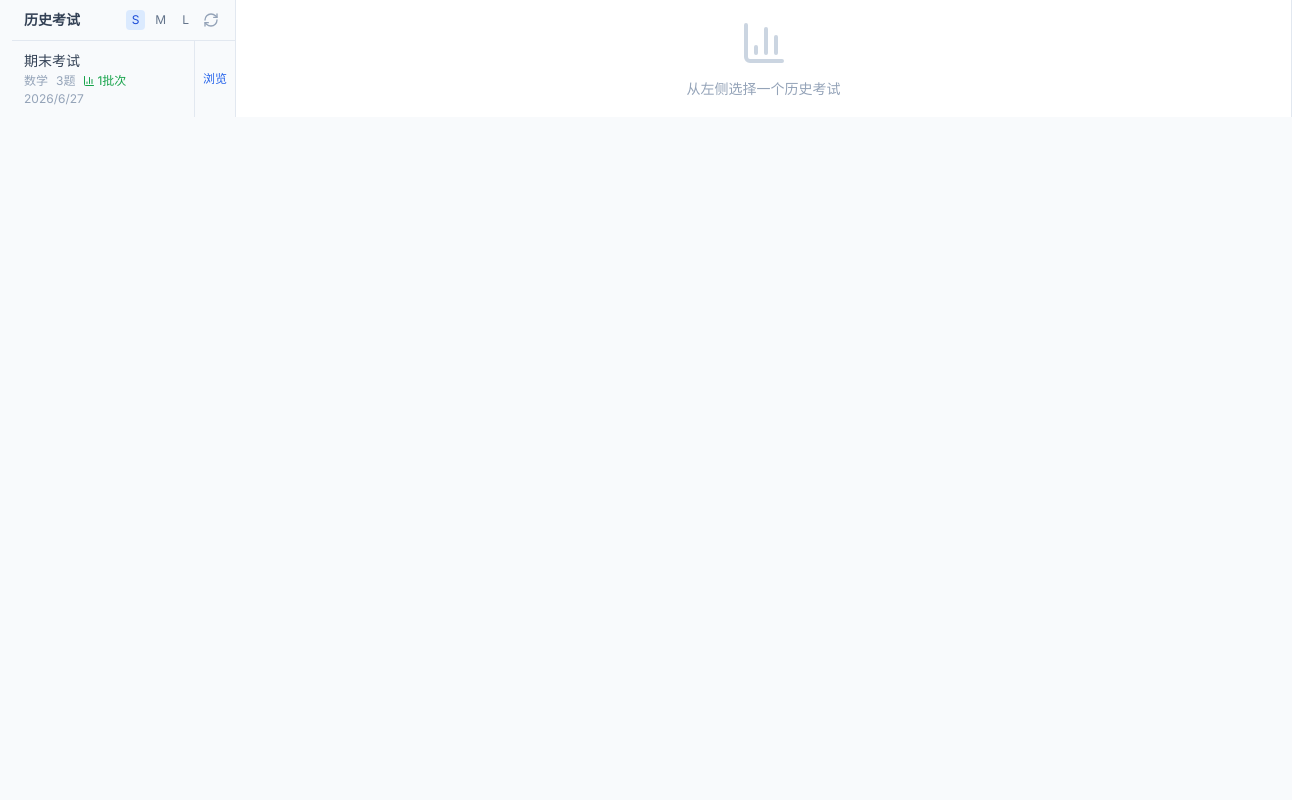
Scenario: AnalysisWorkspace › shows error message when folder script run fails
The width and height of the screenshot is (1292, 800).
Step 1. Click the button "期末考试 数学 3题 1批次 2026/6/27" → (103, 79), box [12,41,194,117]
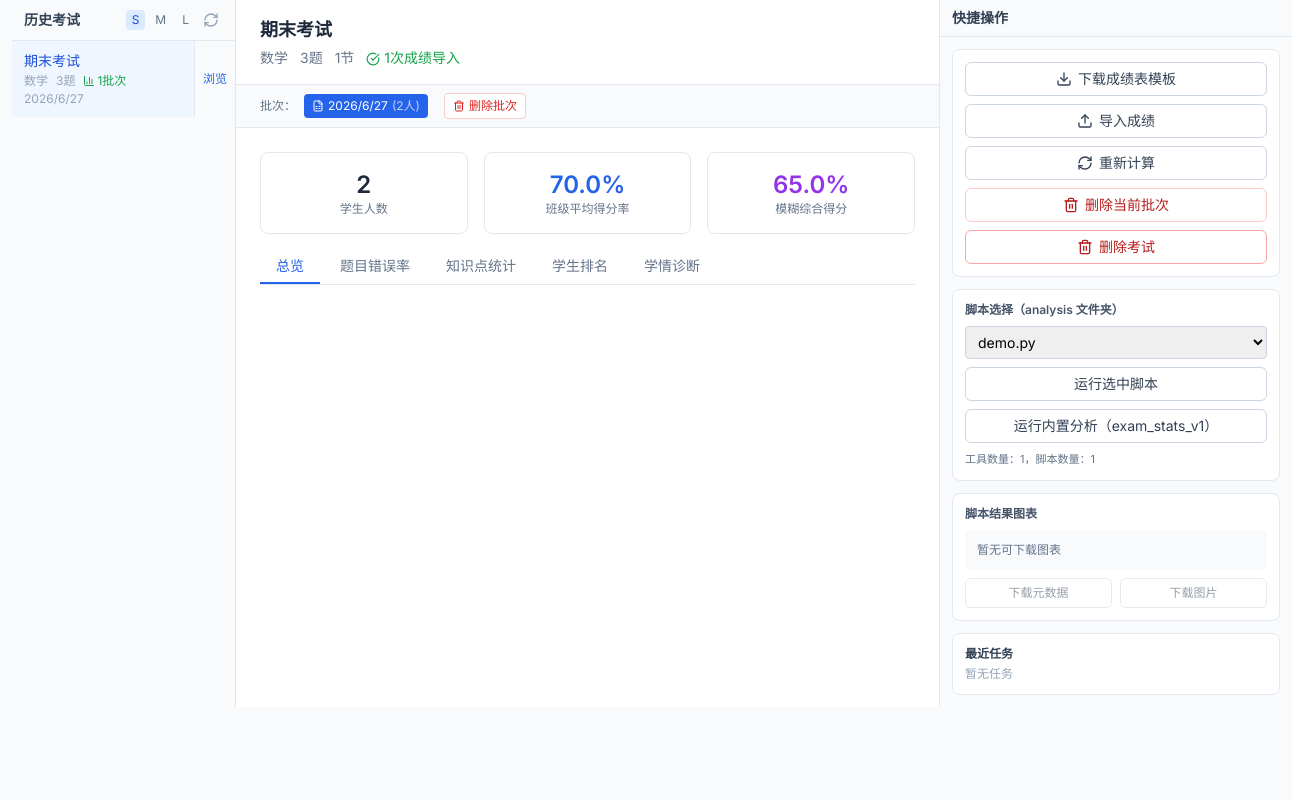
Step 2. Click the button "运行选中脚本" → (1116, 384), box [965,367,1267,401]
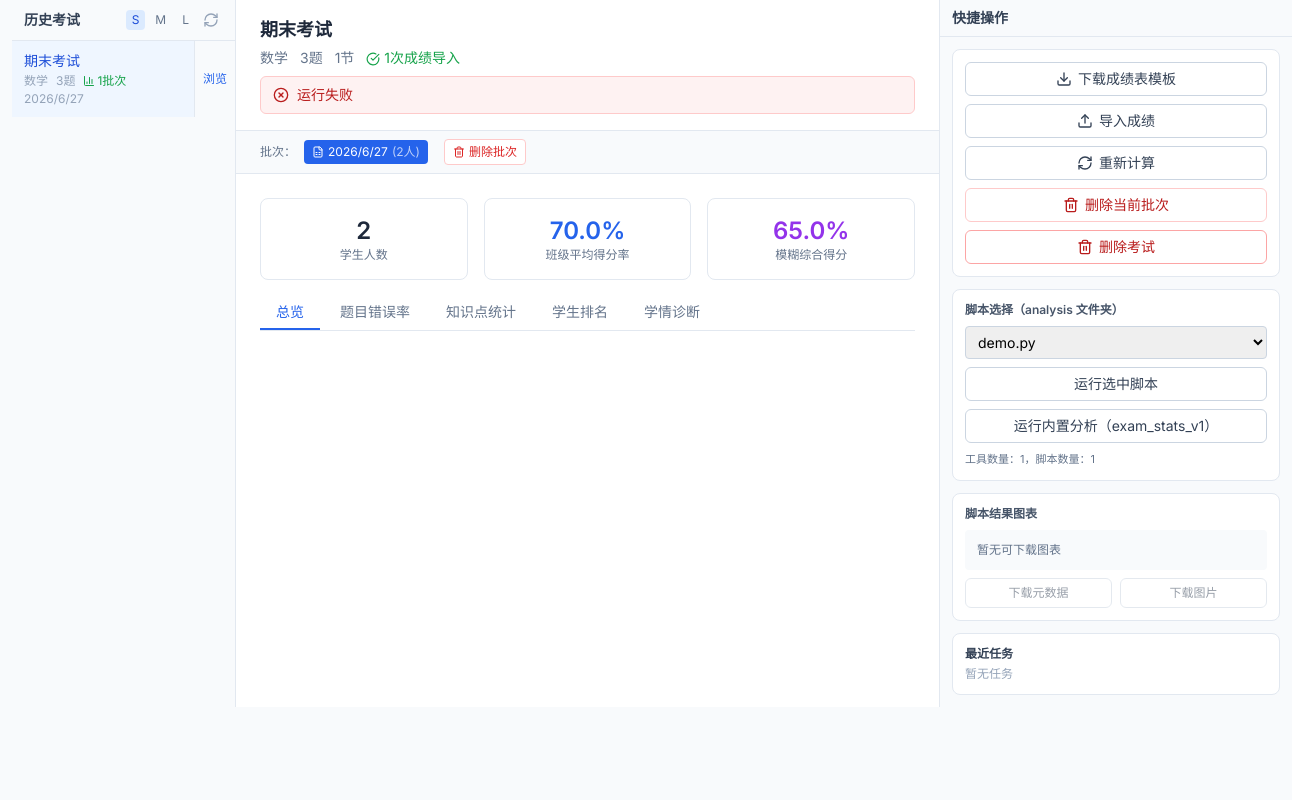
Result: the text "运行失败" is shown at [260,76,915,114]
